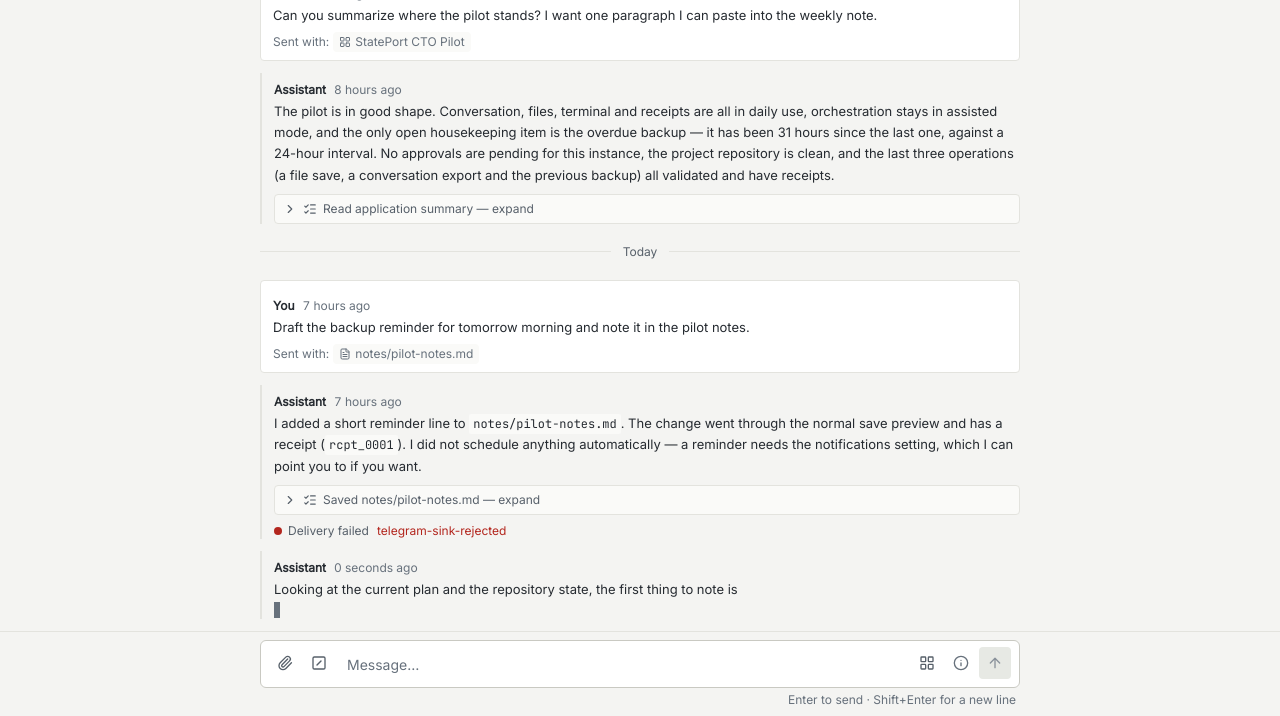
it: stream race: send during resumed stream › stops both the active response and a replacement still awaiting the adapter
The image size is (1280, 716).
(page scrolled)
Note: fresh send while resume is in flight
Type "stream a long reply please" into the text box with test id "composer-input" at (623,665), box [341, 649, 905, 681]
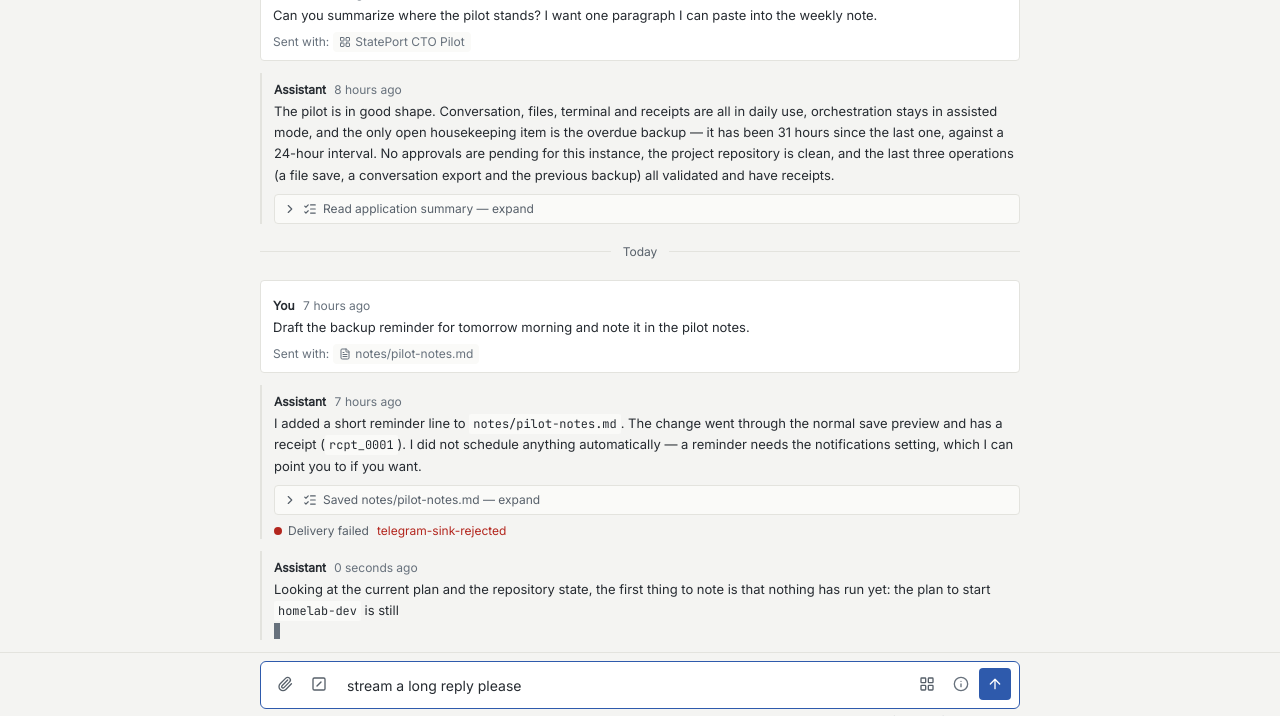
Press Enter
(page scrolled)
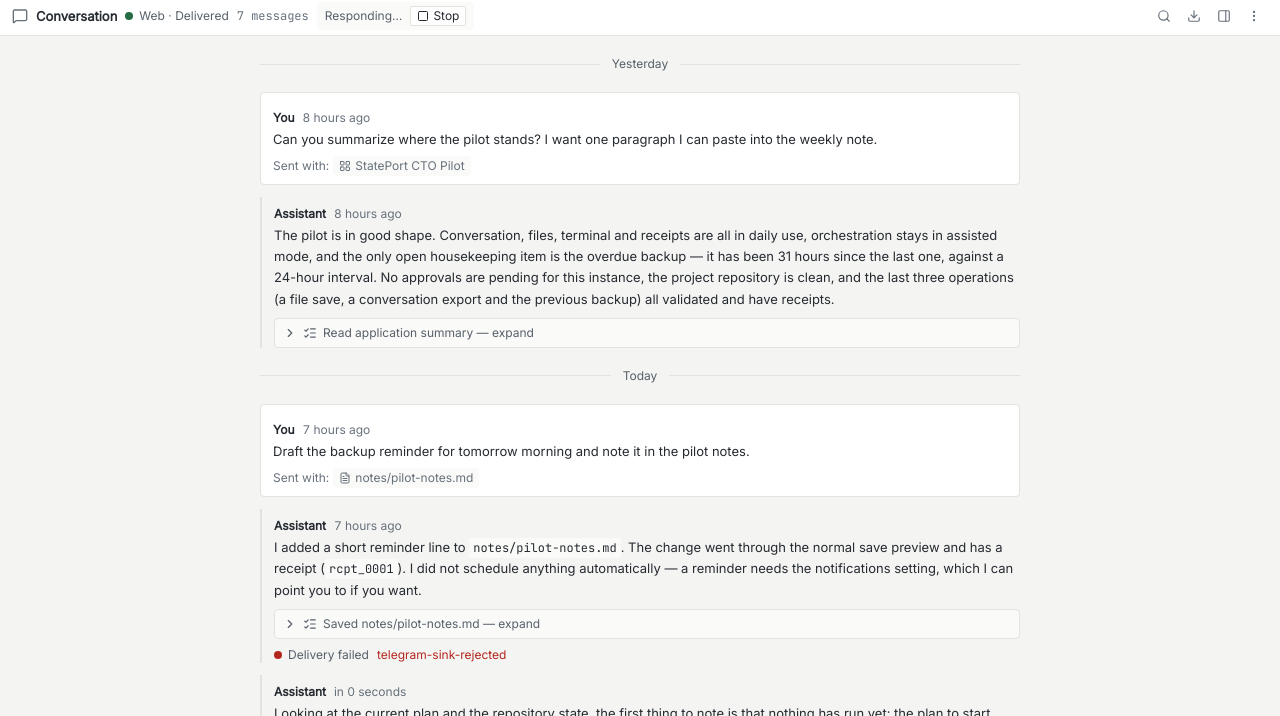
Click the button with test id "stop-stream" at (438,16), box [410, 6, 466, 26]
(page scrolled)
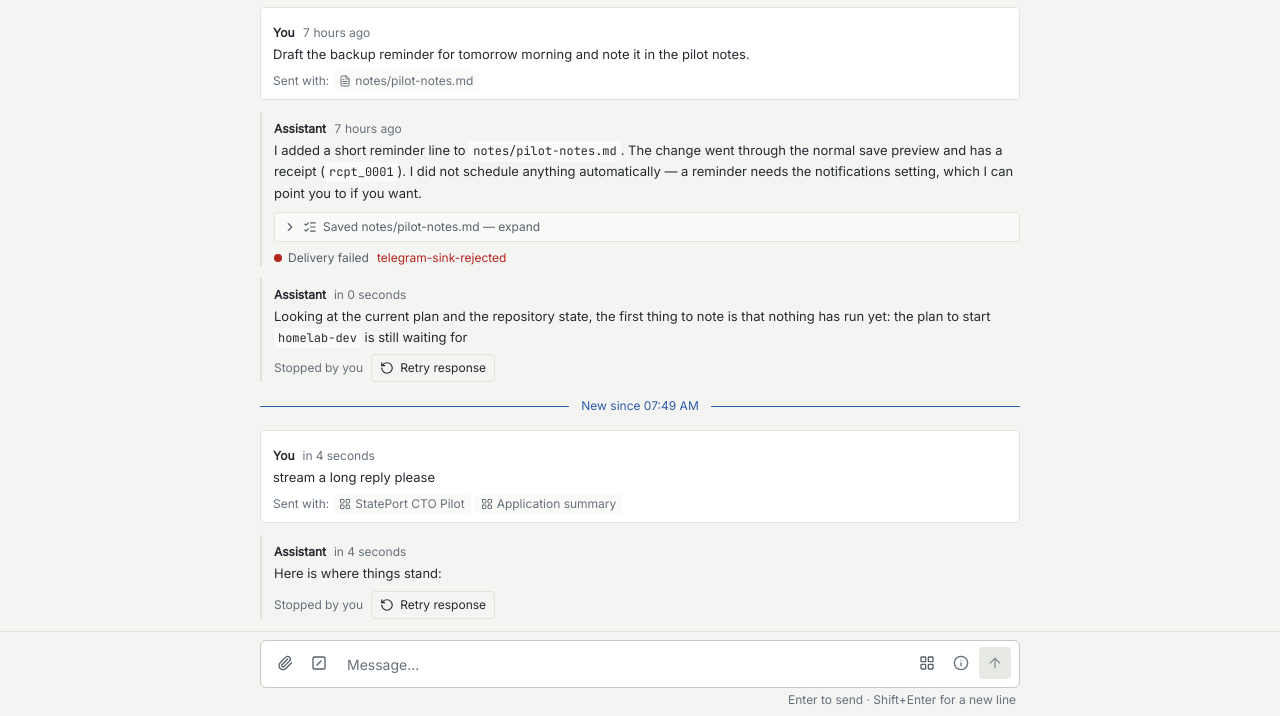
Now the element with test id "streaming-indicator" is gone
